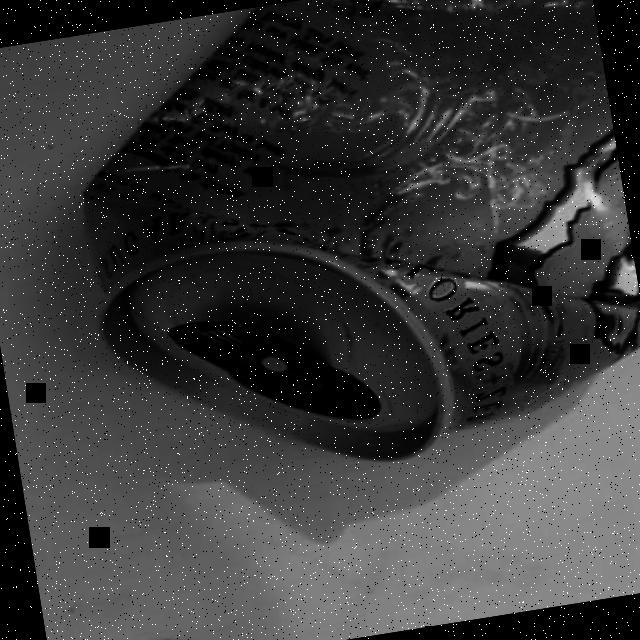can: (60, 0, 640, 505)
